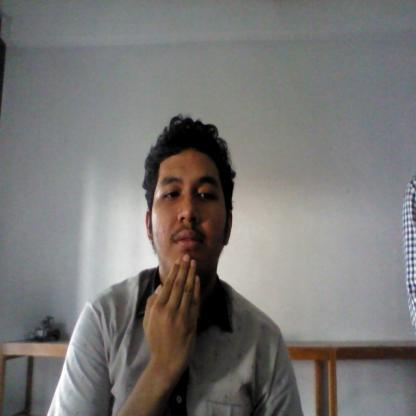Selamat-Terimakasih: (142, 252, 204, 390)
